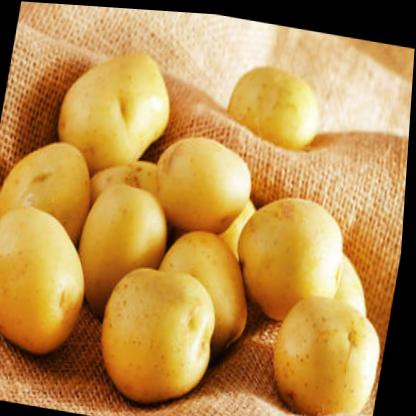--: (93, 255, 229, 411), (51, 36, 183, 183), (256, 283, 393, 416), (0, 195, 103, 366), (231, 187, 354, 327), (143, 121, 267, 239), (219, 55, 332, 153)
